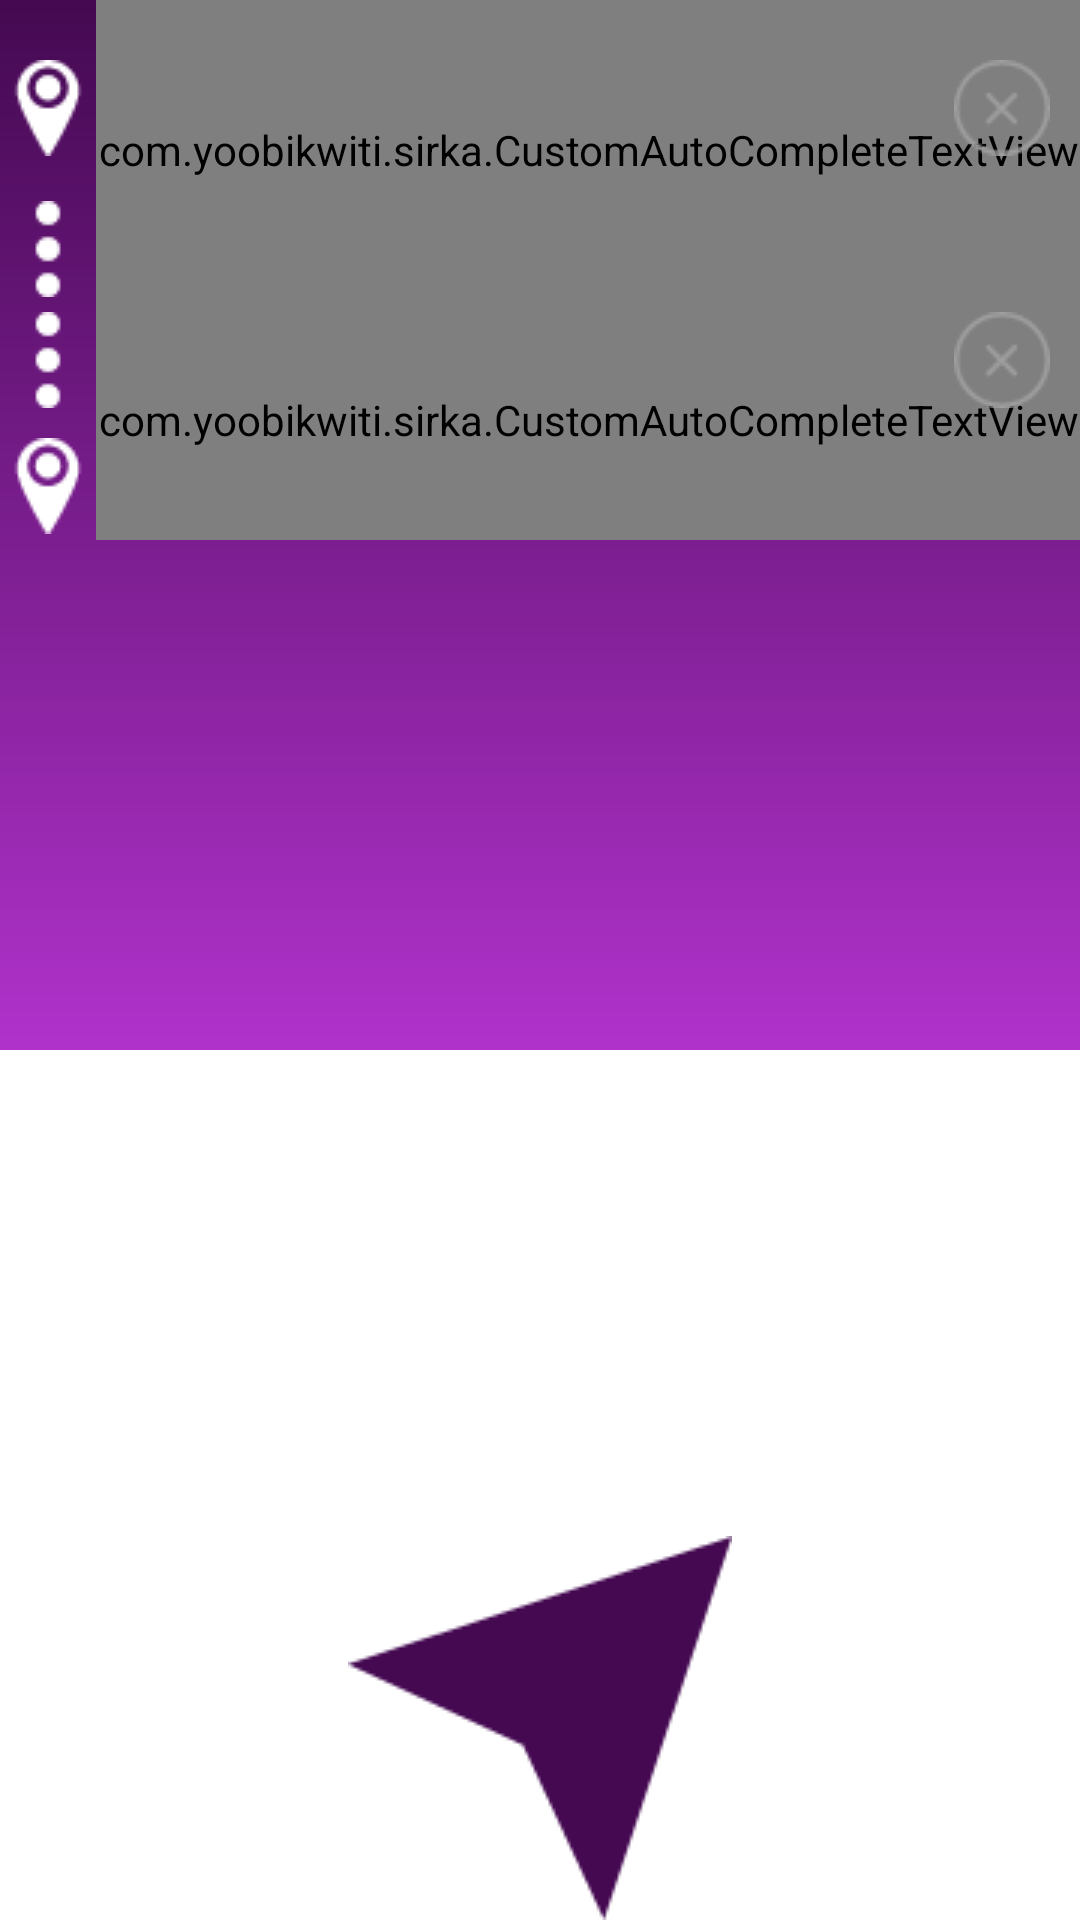

Where to tap for icons on this 1080 × 1920 app screen, as (x,y):
clear: (1002,108), (1002,360)
